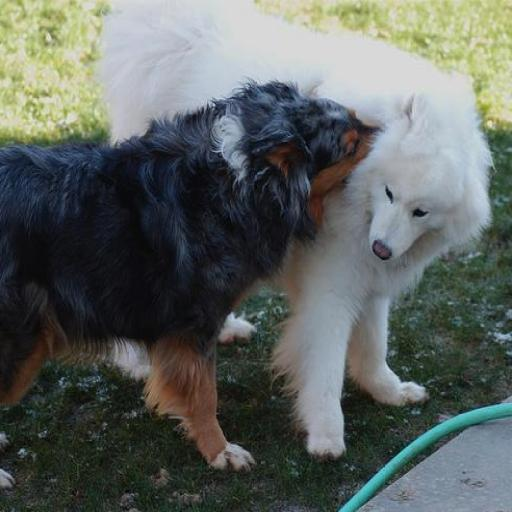dog_face: (353, 104, 470, 262)
